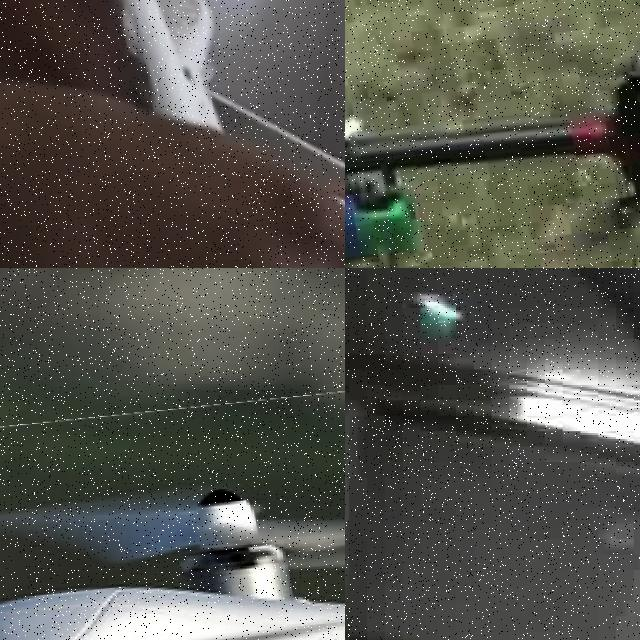0: (345, 0, 640, 268)
drone: (0, 0, 345, 268), (0, 390, 345, 640)
